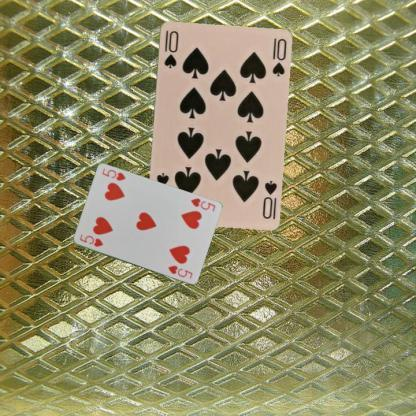10s: (259, 178, 278, 221), (161, 28, 180, 70)
5h: (188, 196, 216, 212), (77, 232, 104, 248)
